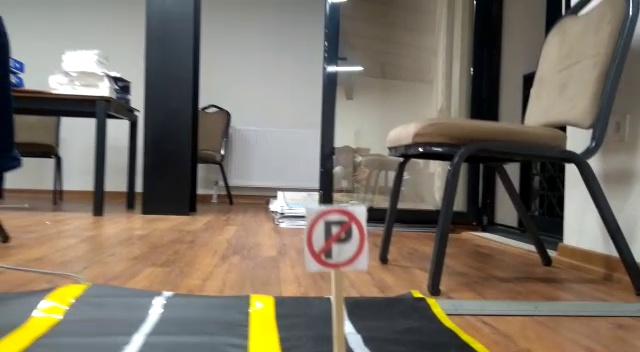park_yapilmaz: (307, 203, 370, 270)
